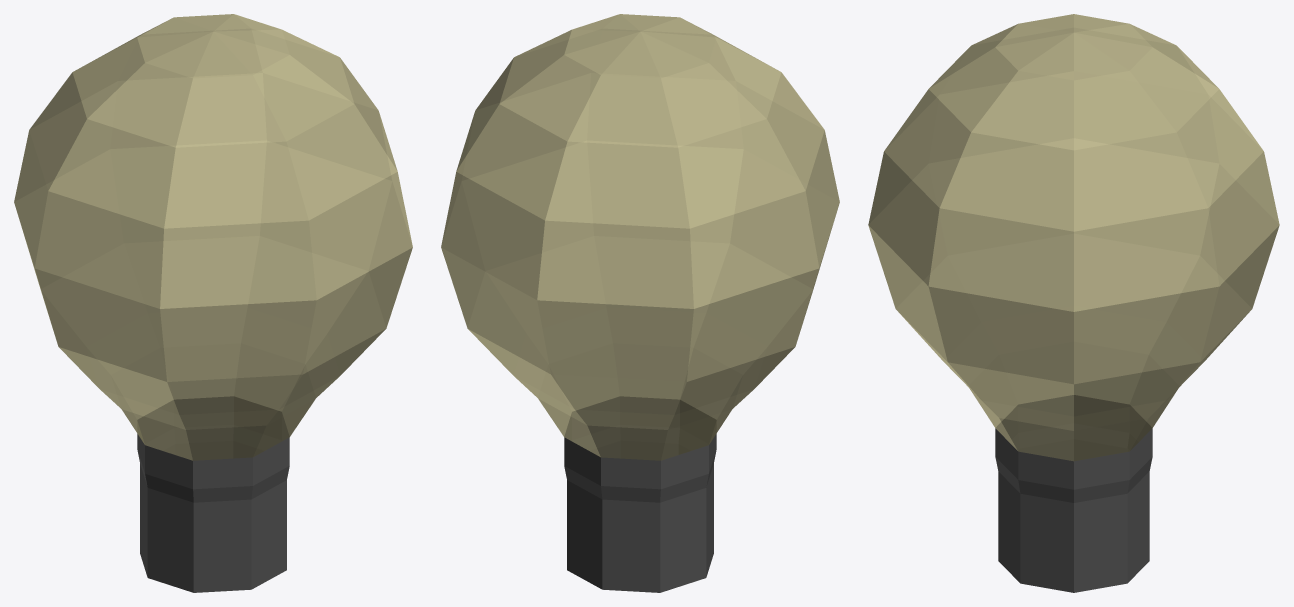
Rendered from Bulb.fbx.
3 renders of one model, left to right at view 1: azimuth 30°, elevation 25°; view 2: azimuth 150°, elevation 25°; view 3: azimuth 270°, elevation 25°, orthographic.
Parts seen in each view (by area): view 1: pSphere1; view 2: pSphere1; view 3: pSphere1.
Part boxes in pixels (x1=…): pSphere1: x1=14, y1=14, x2=412, y2=592; pSphere1: x1=441, y1=14, x2=839, y2=592; pSphere1: x1=868, y1=14, x2=1279, y2=592.
Size of the model in its own units: 0.0361 by 0.0527 by 0.0361.
